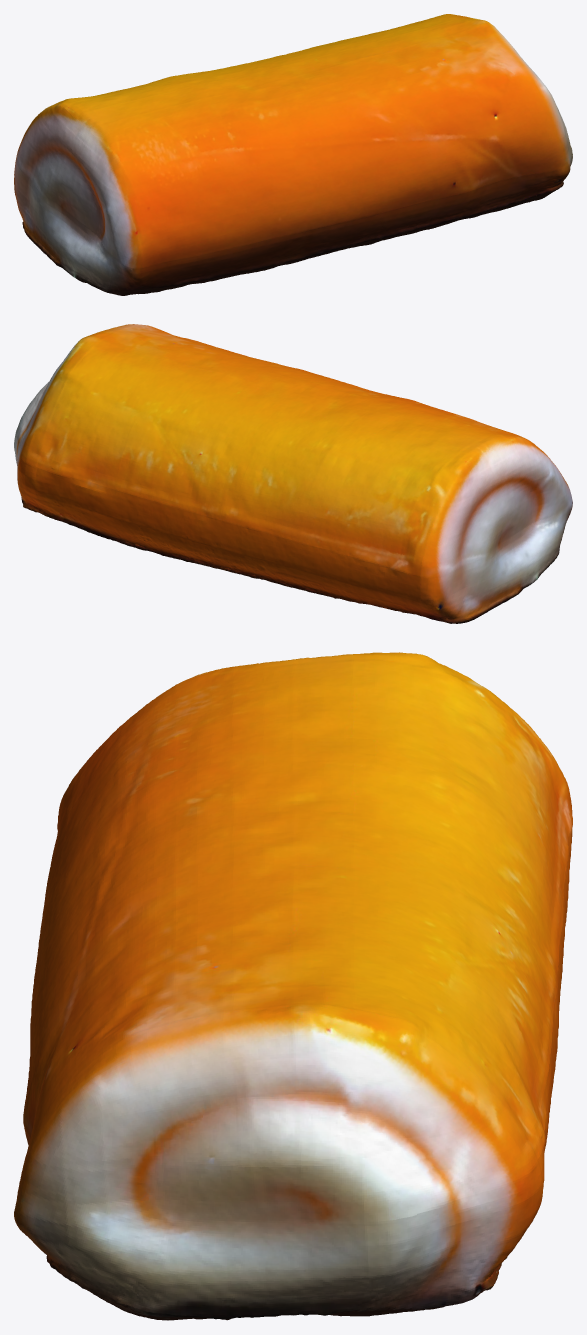
The model's file is kamaboko.glb.
3 renders of one model, top to bottom at view 1: azimuth 30°, elevation 25°; view 2: azimuth 150°, elevation 25°; view 3: azimuth 270°, elevation 25°, orthographic. The views are drawn at different scales.
Visible parts, largest first — view 1: 3DModel_Custom; view 2: 3DModel_Custom; view 3: 3DModel_Custom.
Part boxes in pixels (x1,y1,x2,y2): 3DModel_Custom: (14,14,572,295); 3DModel_Custom: (14,324,572,623); 3DModel_Custom: (14,652,572,1320).
Bounding box in the file's own units: 1.83 × 0.5864 × 0.9553.
1 material, 1 textured.
